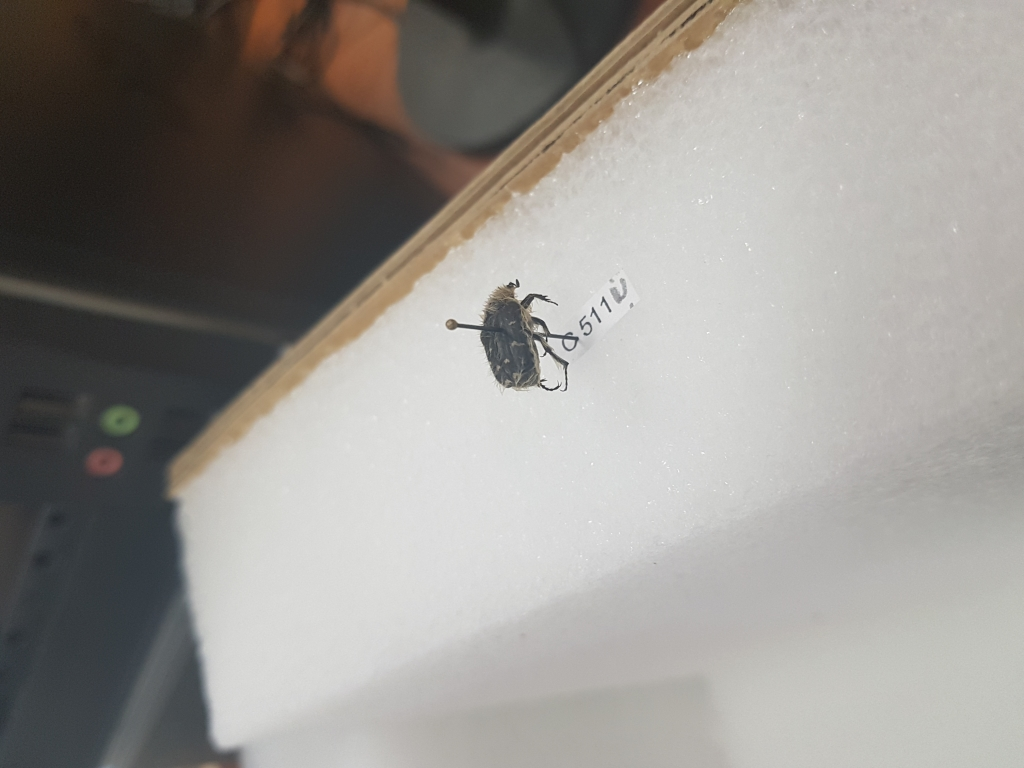Tropinota_senicula: (476, 271, 576, 399)
